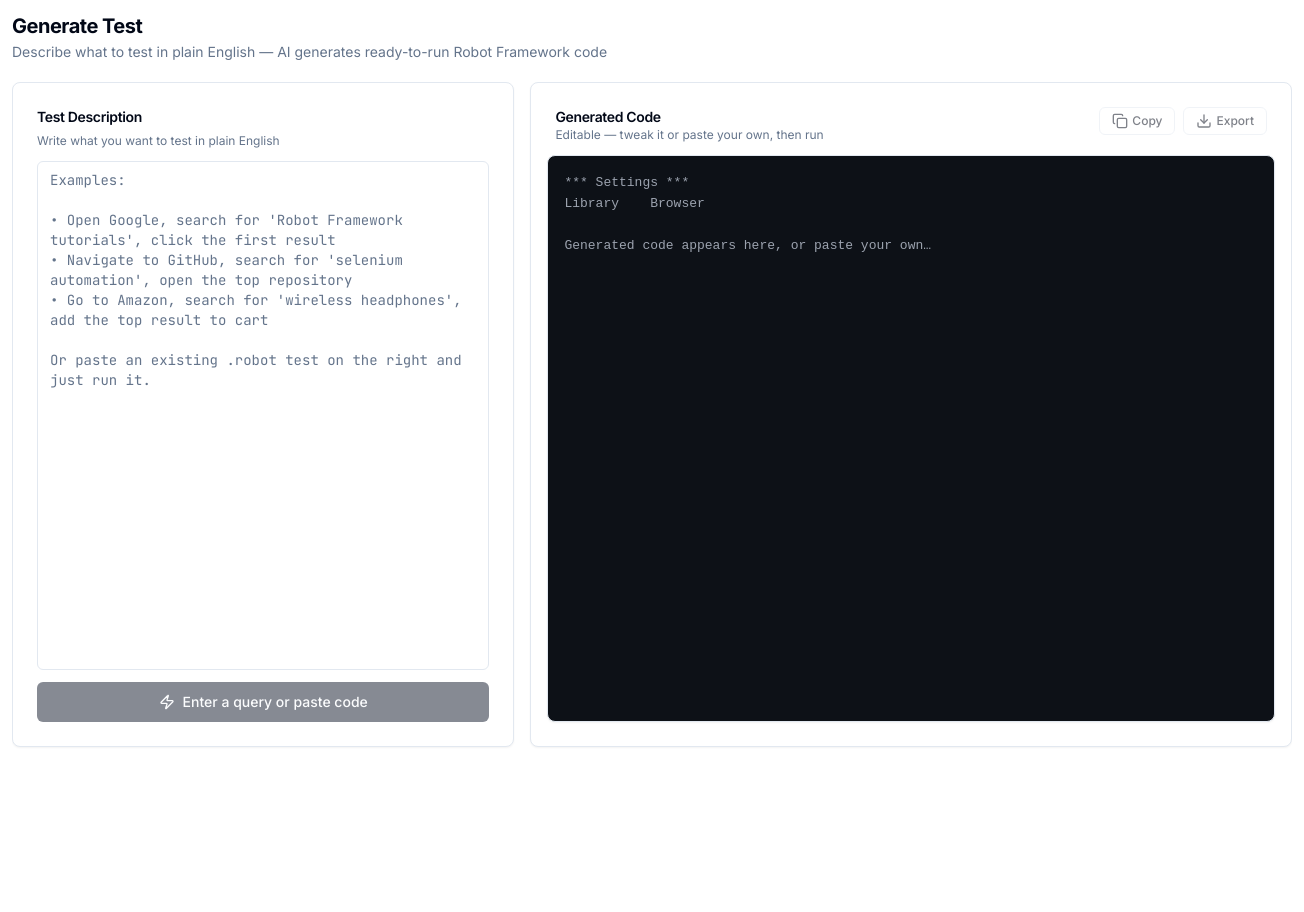
GeneratePage — the generation pipeline rail › shows the right stage as active at 10% progress
This screenshot has width=1304, height=912.
Replace the text in the text box with placeholder "Open Google, search for" with "open flipkart and search for shoes" at (263, 416), box [37, 161, 489, 670]
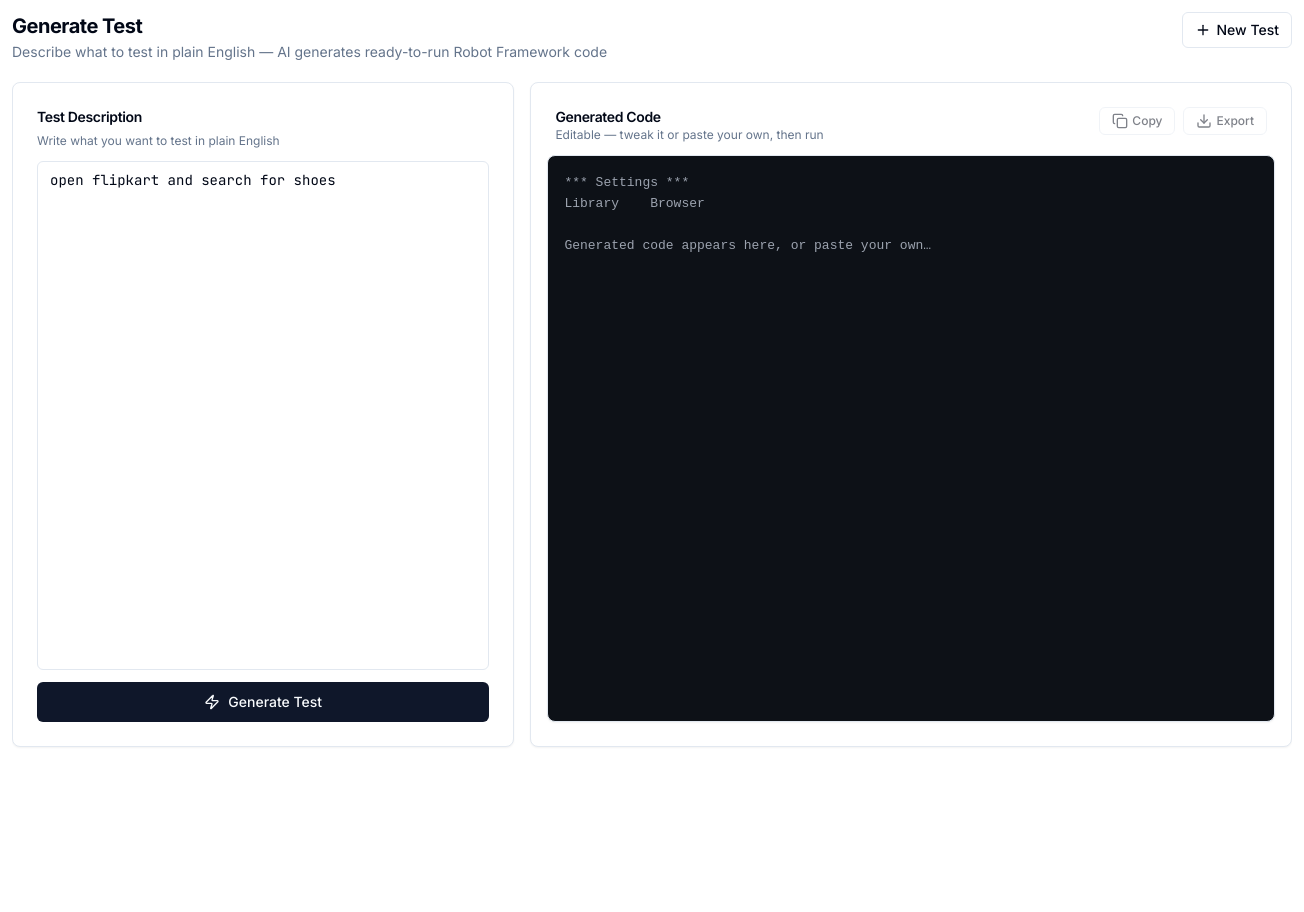
Click the button "Generate Test" at (263, 702), box [37, 682, 489, 722]
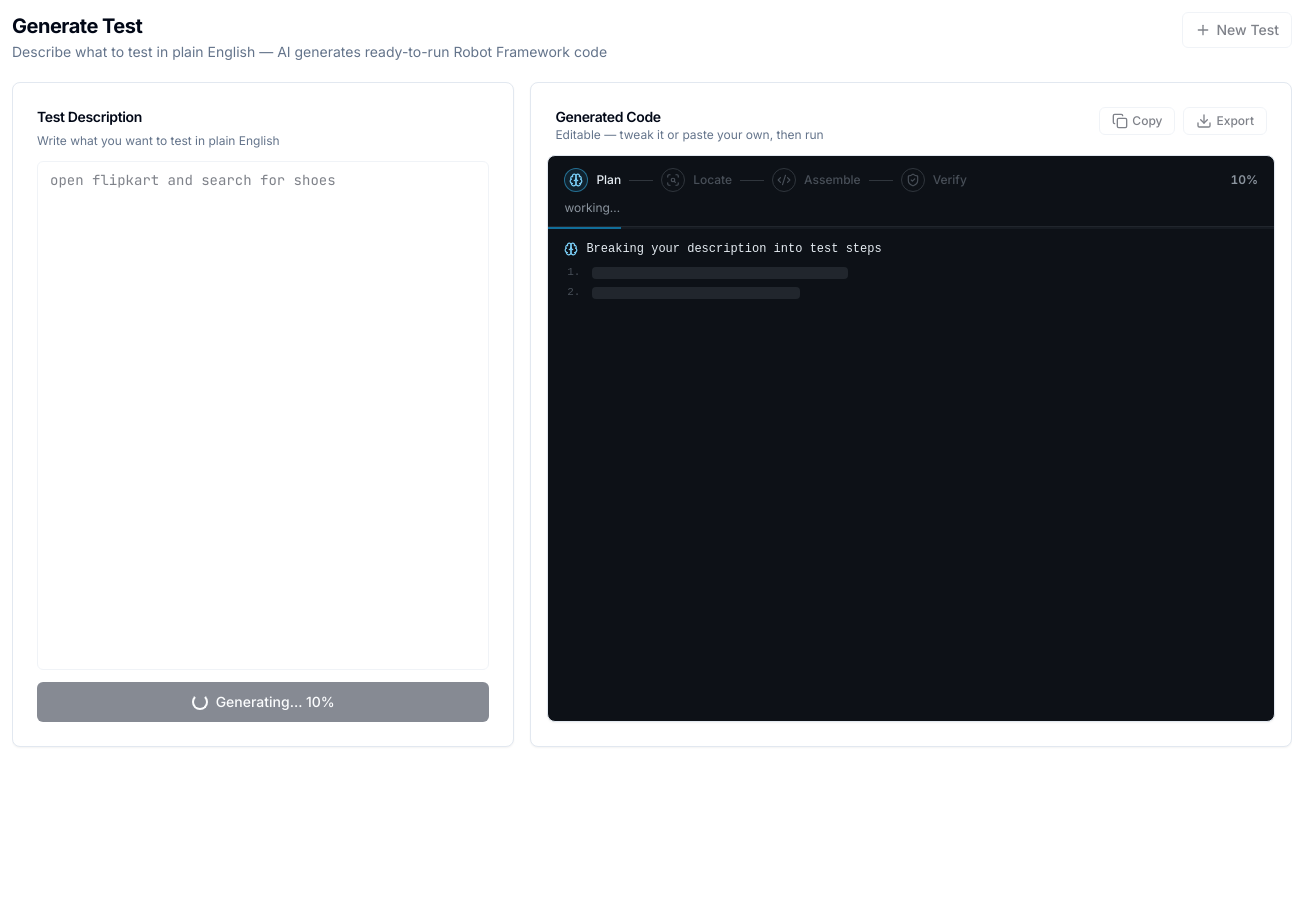
Now the text "Breaking your description into test steps" is shown, box [564, 242, 882, 256]
